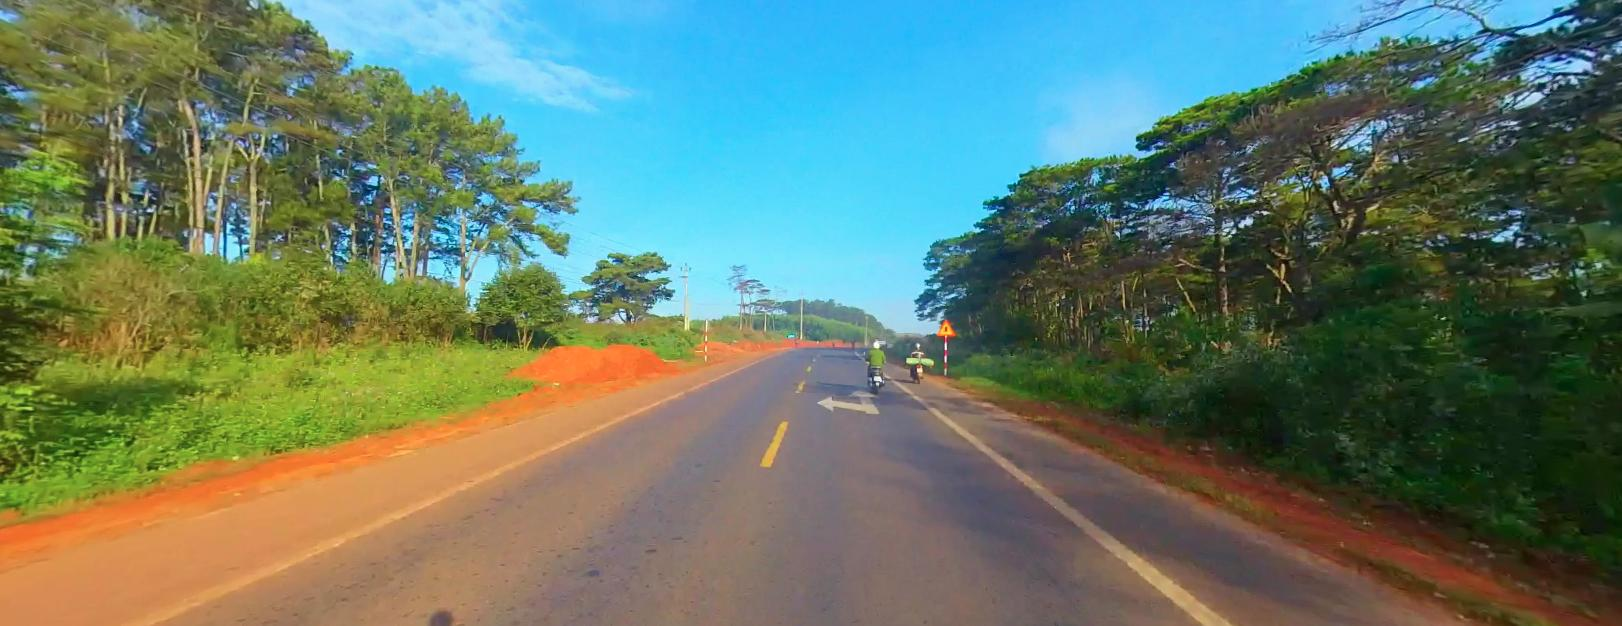Nguy hiem: (936, 317, 955, 335)
